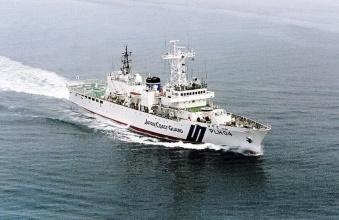warship: (64, 37, 271, 156)
